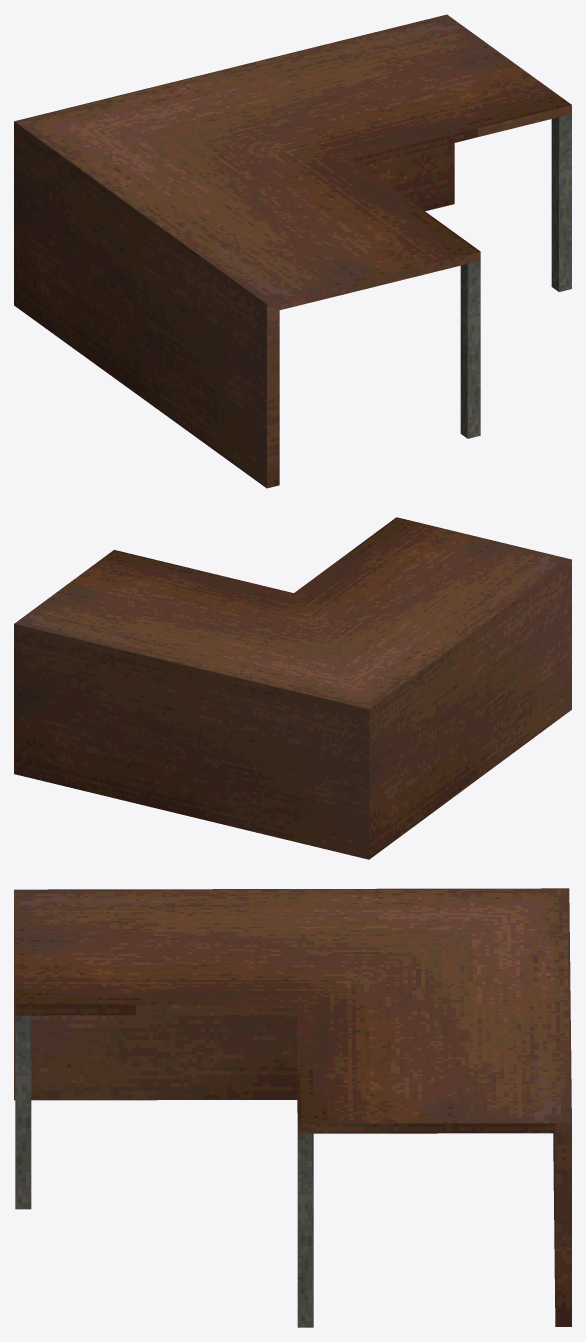
Rendered from desk2_corner.glb.
3 views of the same model, one above another, from view 1: azimuth 30°, elevation 25°; view 2: azimuth 150°, elevation 25°; view 3: azimuth 270°, elevation 25° (orthographic). The views are drawn at different scales.
Visible parts, largest first — view 1: desk2_corner; view 2: desk2_corner; view 3: desk2_corner.
Boxes of the visible parts, bbox=[...] form: desk2_corner: bbox=[14, 14, 571, 488]; desk2_corner: bbox=[14, 517, 571, 859]; desk2_corner: bbox=[14, 888, 571, 1327].
Size of the model in its own units: 2.21 by 0.8911 by 2.21.
Materials: 1 (1 with a texture image).
